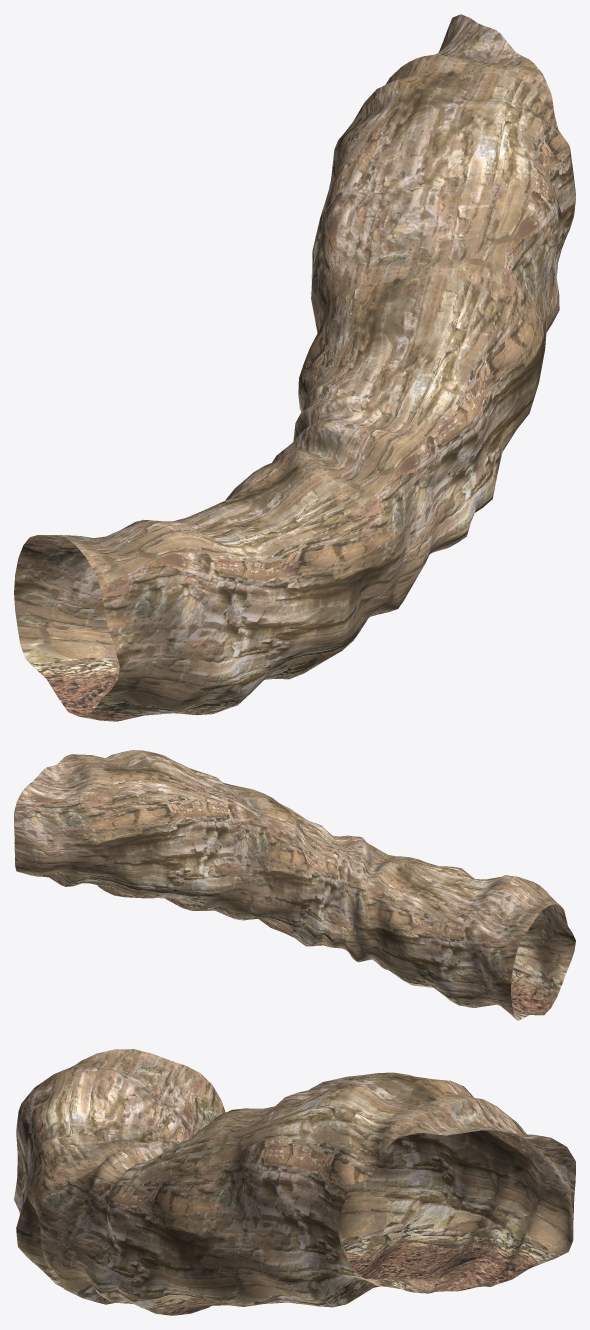
File: thm_tato_cave_s01_r22_mesh_r22.fbx
3 views of the same model, one above another, from view 1: azimuth 30°, elevation 25°; view 2: azimuth 150°, elevation 25°; view 3: azimuth 270°, elevation 25° (orthographic). The views are drawn at different scales.
Parts seen in each view (by area): view 1: mesh_node; view 2: mesh_node; view 3: mesh_node.
Boxes of the visible parts, box(x1,y1,x2,y2) form: mesh_node: box(14, 14, 575, 721); mesh_node: box(14, 750, 575, 1020); mesh_node: box(14, 1049, 575, 1315).
Bounding box in the file's own units: 37.2 × 22.78 × 31.52.
